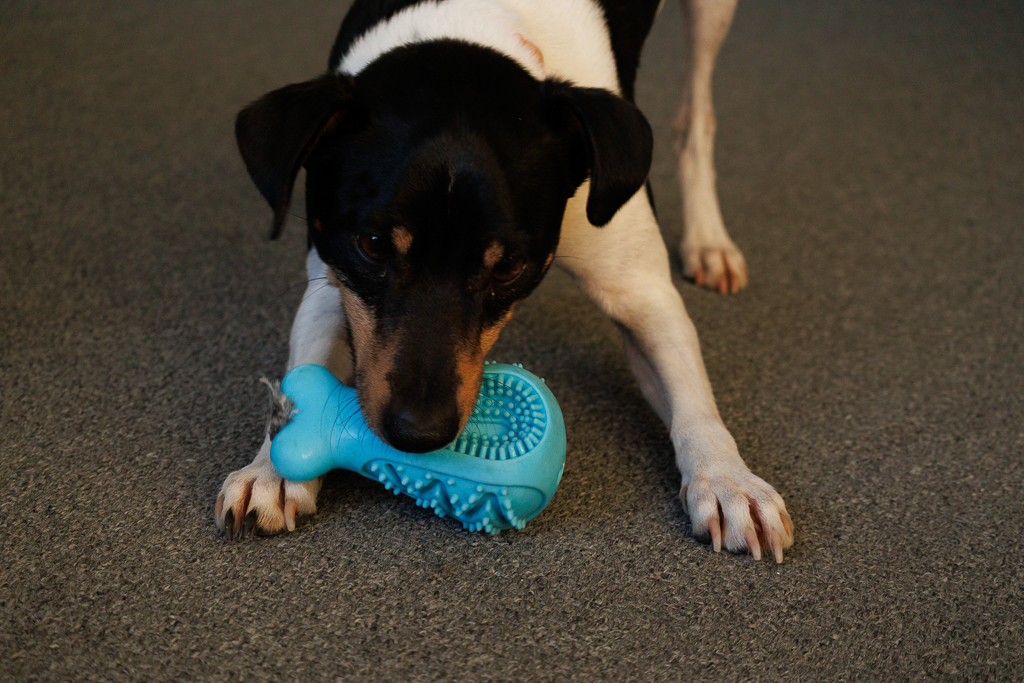Dog: (200, 0, 807, 580)
